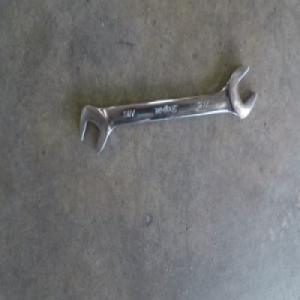Wrench: (80, 66, 255, 155)
